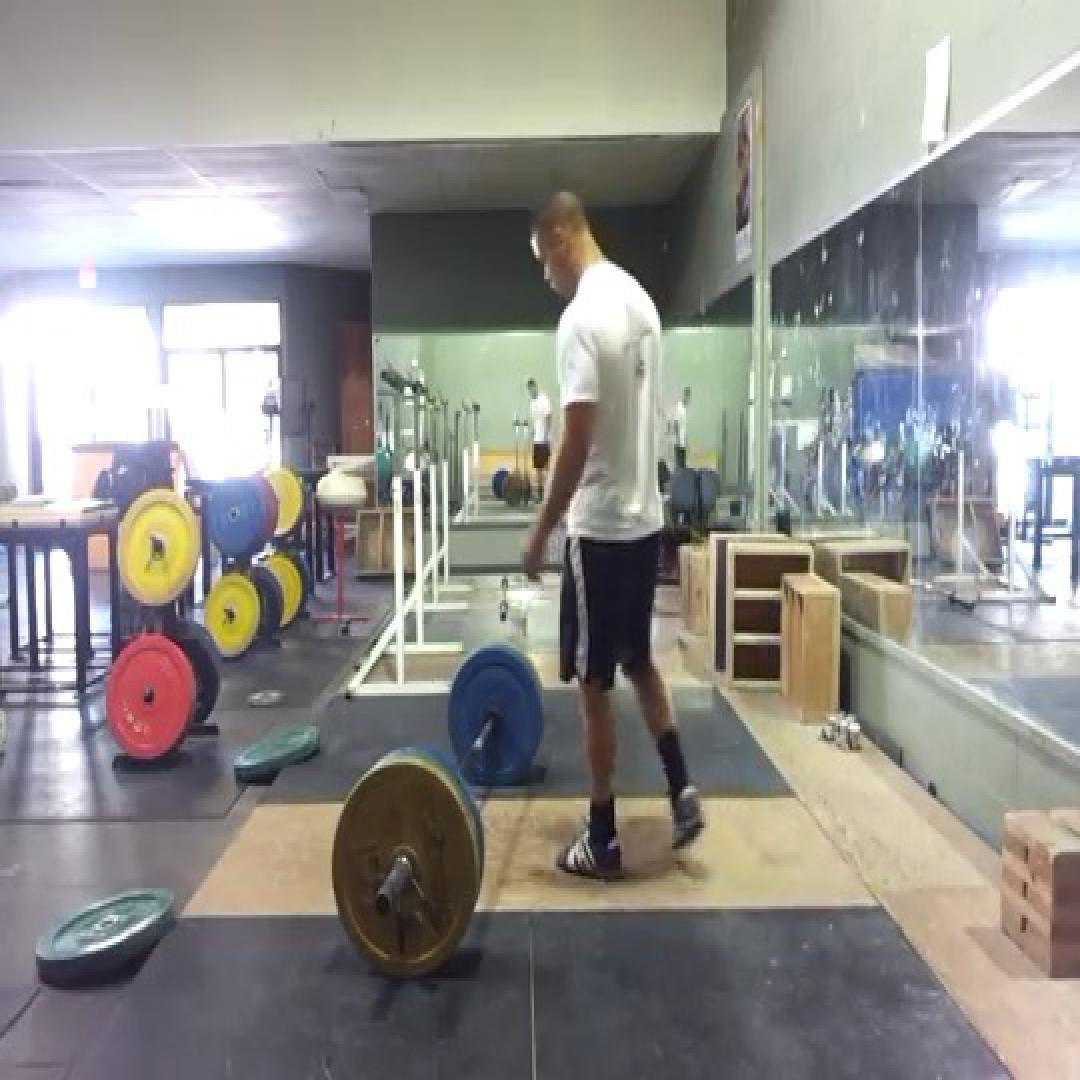Bar: (372, 891, 392, 918)
Barbell: (332, 762, 478, 975)
